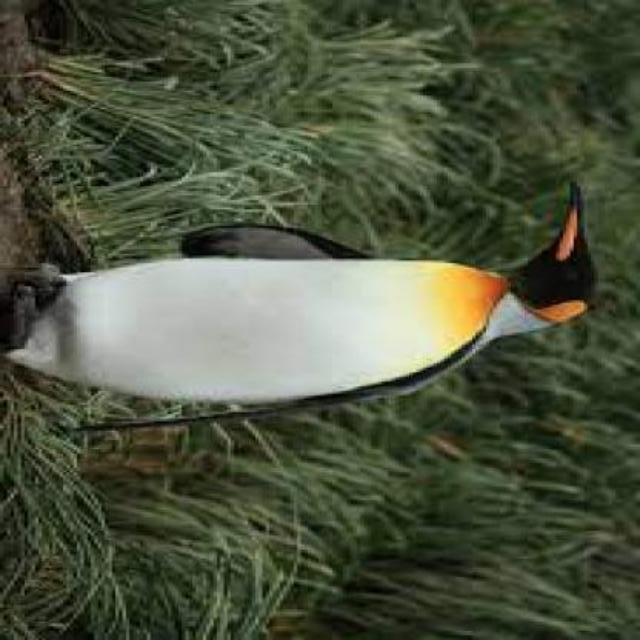penguin: (6, 181, 598, 431)
